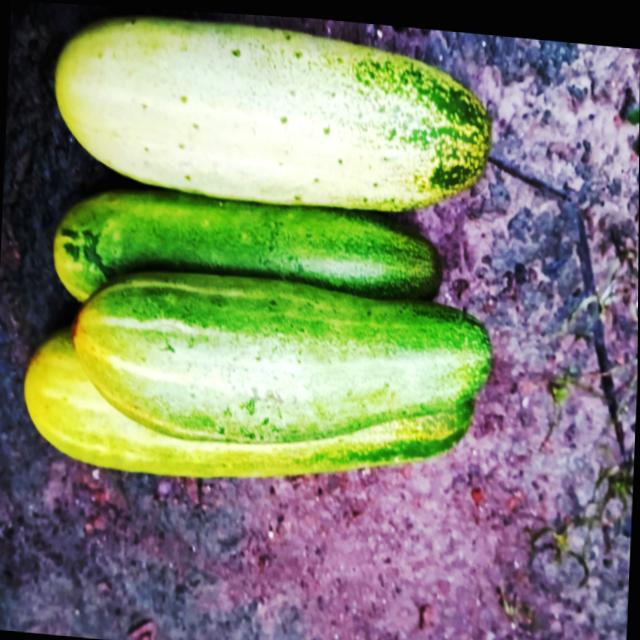Fresh-Cucumber: (47, 2, 496, 220), (63, 253, 499, 464), (20, 323, 478, 501), (50, 177, 445, 336)
